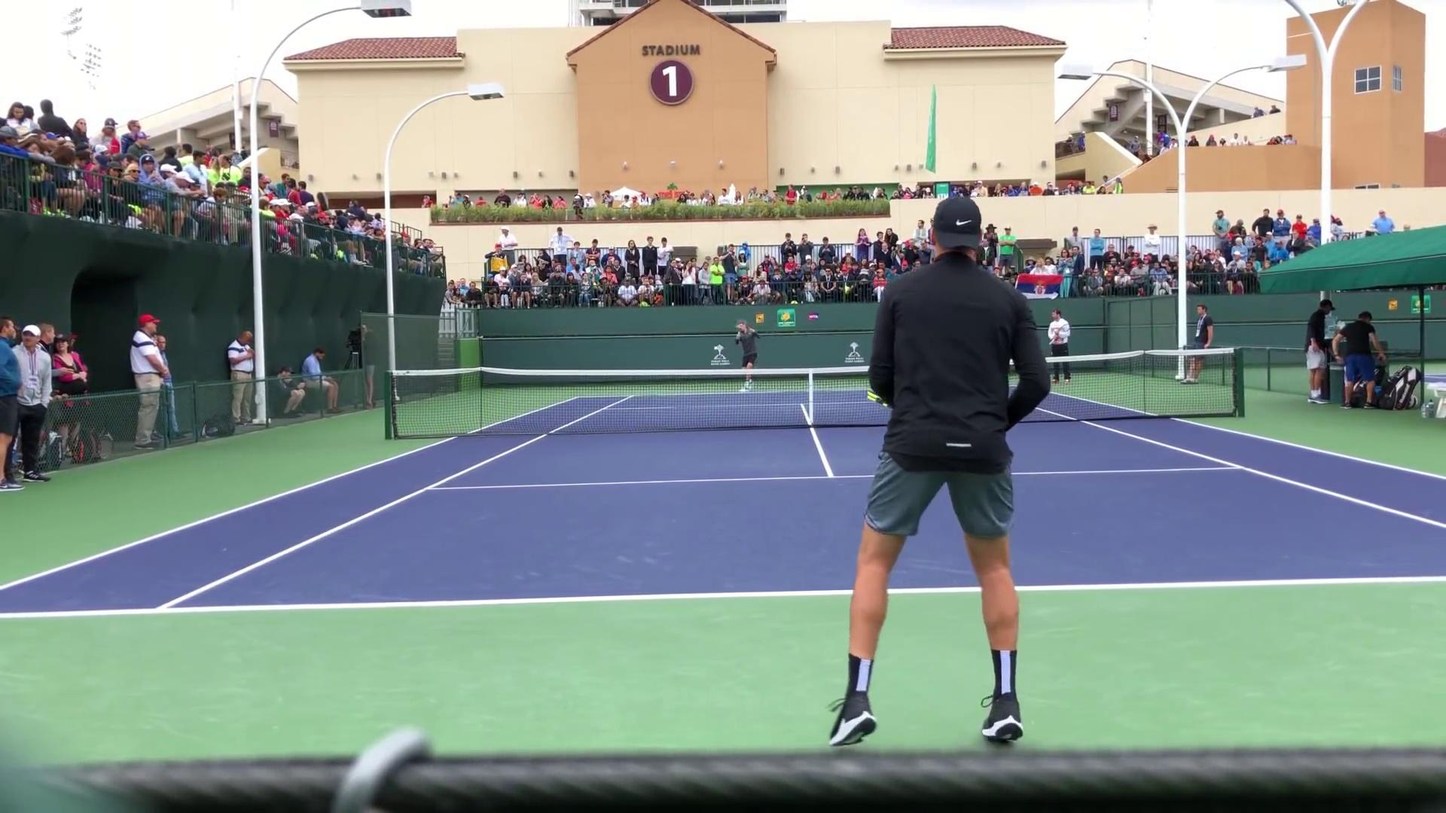ball: (713, 346, 718, 350)
